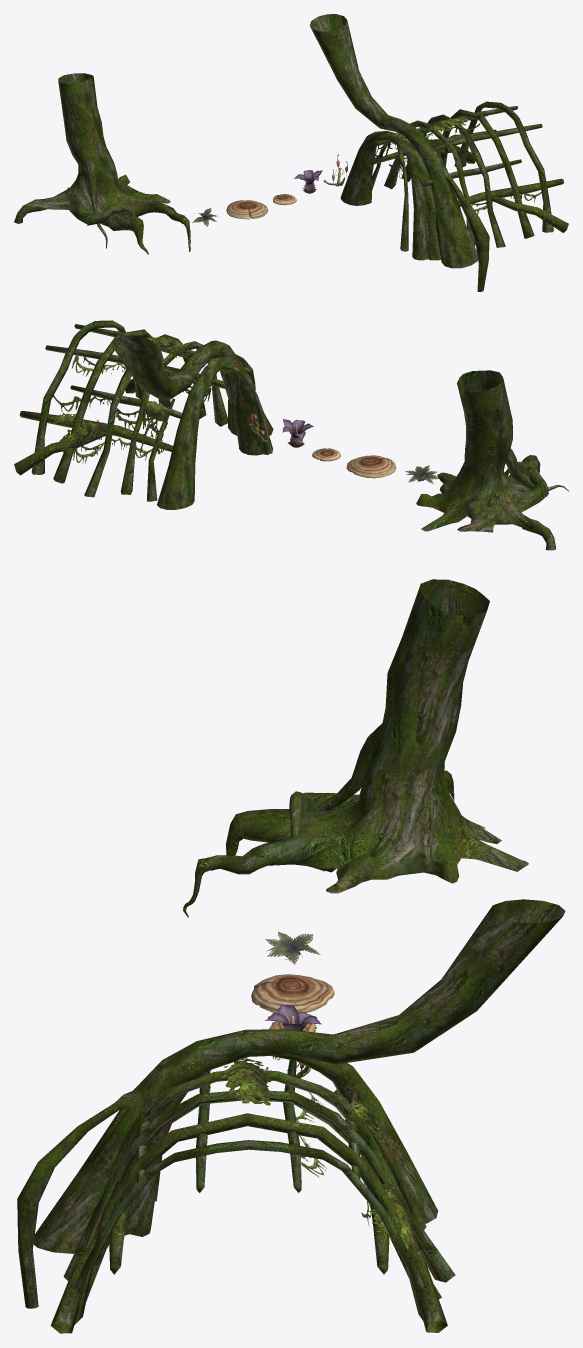
File: d_1011_flower.FBX
The picture shows the model from 3 angles, top to bottom: view 1: azimuth 30°, elevation 25°; view 2: azimuth 150°, elevation 25°; view 3: azimuth 270°, elevation 25°; orthographic projection. The views are drawn at different scales.
Visible parts, largest first — view 1: d_1011_flower07, d_1011_flower05, d_1011_deco0067, d_1011_flower06, d_1011_deco006, d_1011_mogu01; view 2: d_1011_flower07, d_1011_deco0067, d_1011_flower06, d_1011_flower05, d_1011_deco006, d_1011_mogu01, d_1011_flower01, d_1011_mogu021, d_1011_mugu02; view 3: d_1011_flower07, d_1011_flower05, d_1011_deco0067, d_1011_flower06, d_1011_deco006, d_1011_mogu01, d_1011_mogu021.
Boxes of the visible parts, x1,y1,x2,y2 form: d_1011_flower07: [14, 73, 190, 254]; d_1011_flower05: [309, 14, 489, 291]; d_1011_deco0067: [372, 101, 568, 247]; d_1011_flower06: [340, 131, 440, 260]; d_1011_deco006: [375, 115, 541, 214]; d_1011_mogu01: [226, 200, 268, 219]; d_1011_flower07: [416, 370, 568, 550]; d_1011_deco0067: [14, 320, 252, 501]; d_1011_flower06: [157, 356, 272, 509]; d_1011_flower05: [112, 335, 273, 435]; d_1011_deco006: [53, 336, 211, 463]; d_1011_mogu01: [346, 455, 396, 478]; d_1011_flower01: [282, 419, 313, 439]; d_1011_mogu021: [405, 465, 438, 483]; d_1011_mugu02: [312, 448, 340, 461]; d_1011_flower07: [183, 579, 528, 917]; d_1011_flower05: [17, 899, 565, 1308]; d_1011_deco0067: [50, 1060, 455, 1333]; d_1011_flower06: [124, 1055, 437, 1236]; d_1011_deco006: [124, 1058, 418, 1249]; d_1011_mogu01: [251, 974, 334, 1013]; d_1011_mogu021: [265, 931, 320, 964].
Size of the model in its own units: 19615 by 8532 by 10007.
Materials: 2 (2 with a texture image).
